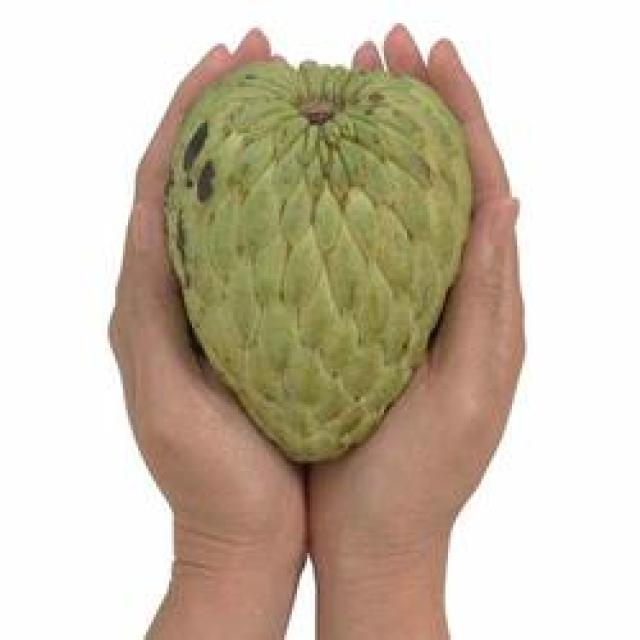apple: (154, 39, 464, 458)
